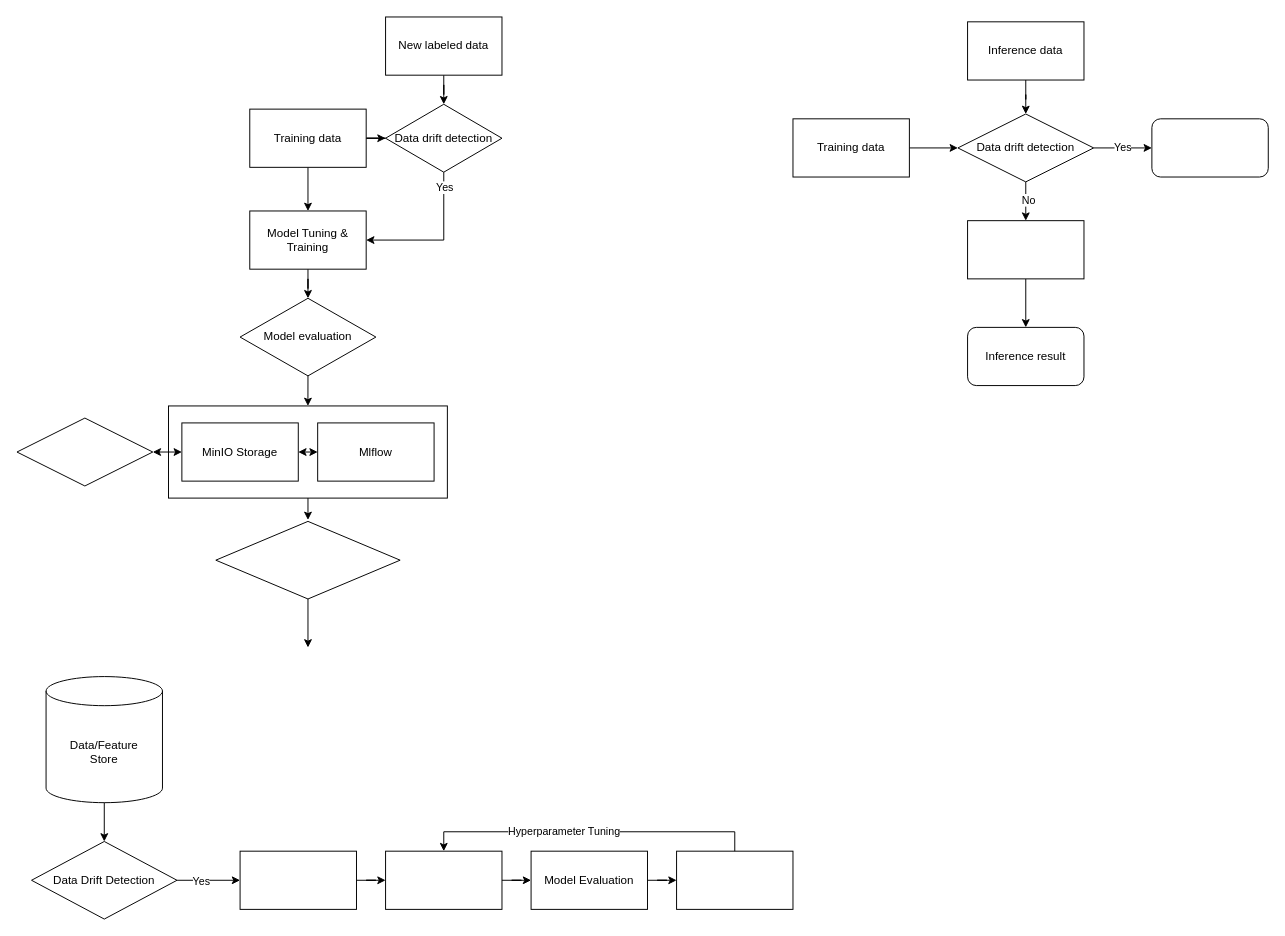
Image size: 1285x936. Some labels were removed from this diagram. The shapes that lost their labels are listed below. From the top down, each one's centre as x and y in pixels, then its label:
At (1209,147): "Alert".
At (1025,249): "Model Service".
At (84,451): "MinIO access control".
At (307,559): "Model deployment".
At (297,879): "Data Preparation".
At (443,879): "Model Training".
At (734,879): "Model Validation".
